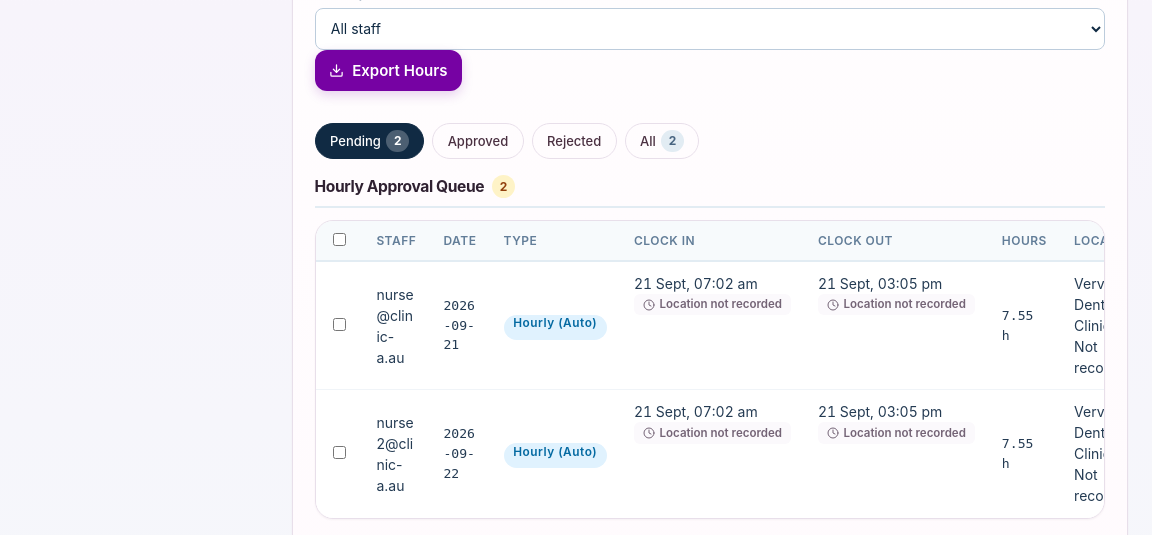
Test: ApprovalQueue — bulk rejection flow › typing a note for a missing row clears its error highlight
(page scrolled)
Expected: the cell "nurse@clinic-a.au" is shown, x1=363 y1=261 x2=430 y2=390
Click the checkbox named "select all timesheets" at (340, 240), box x1=333 y1=233 x2=346 y2=246
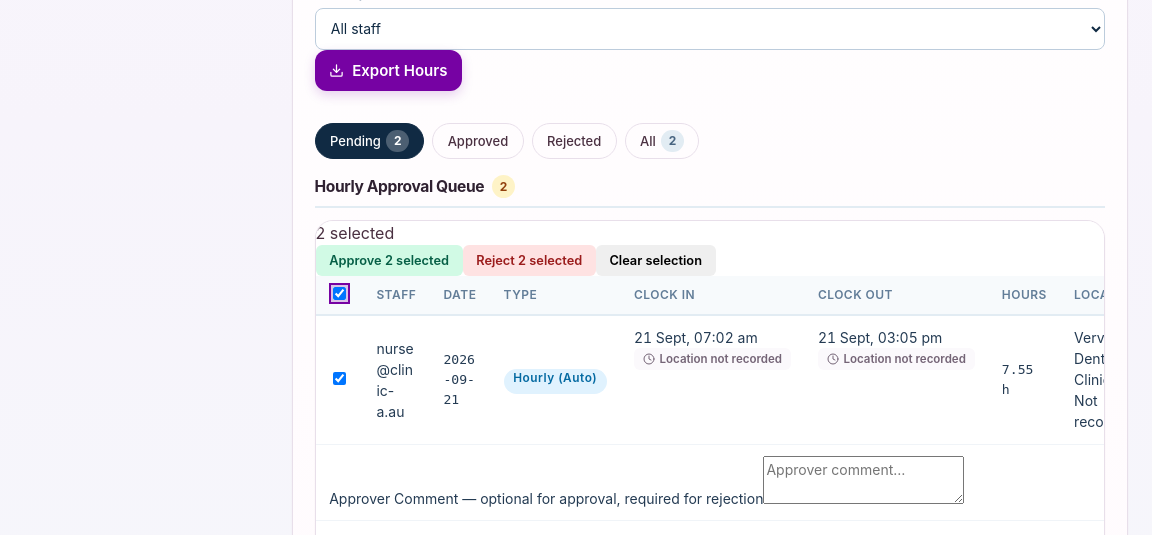
Type "Missing clock-out" into the text box labelled "Approver Comment" at (864, 480), box x1=763 y1=456 x2=964 y2=504
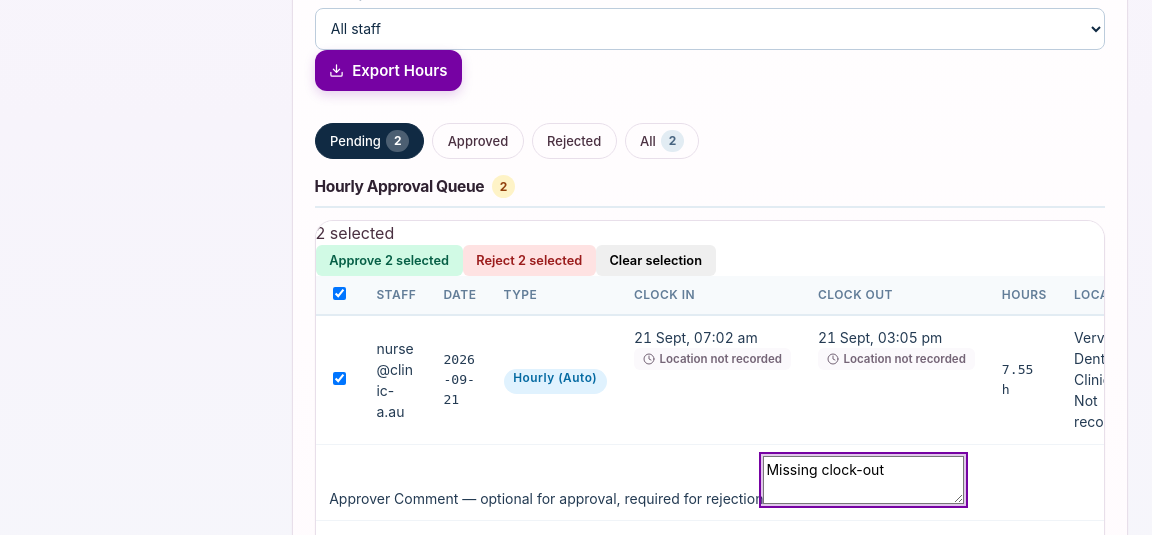
Note: Trigger validation
Click the button "Reject 2 selected" at (529, 260), box x1=463 y1=245 x2=596 y2=276
(page scrolled)
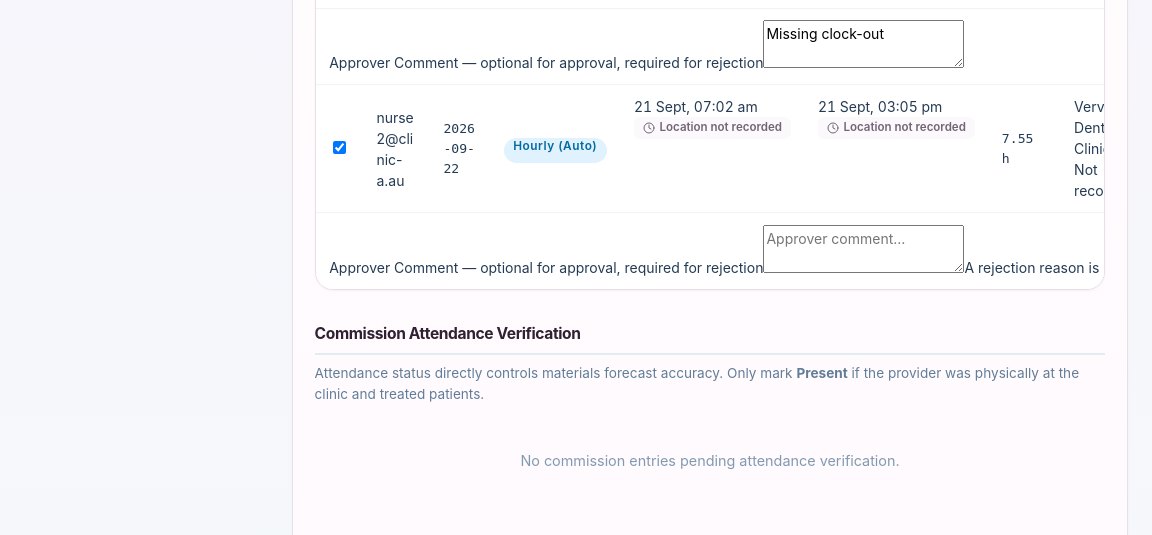
Note: Now fix e2's note
Type "Unauthorised absence" into the 2nd text box labelled "Approver Comment" at (864, 249), box x1=763 y1=225 x2=964 y2=273
(page scrolled)
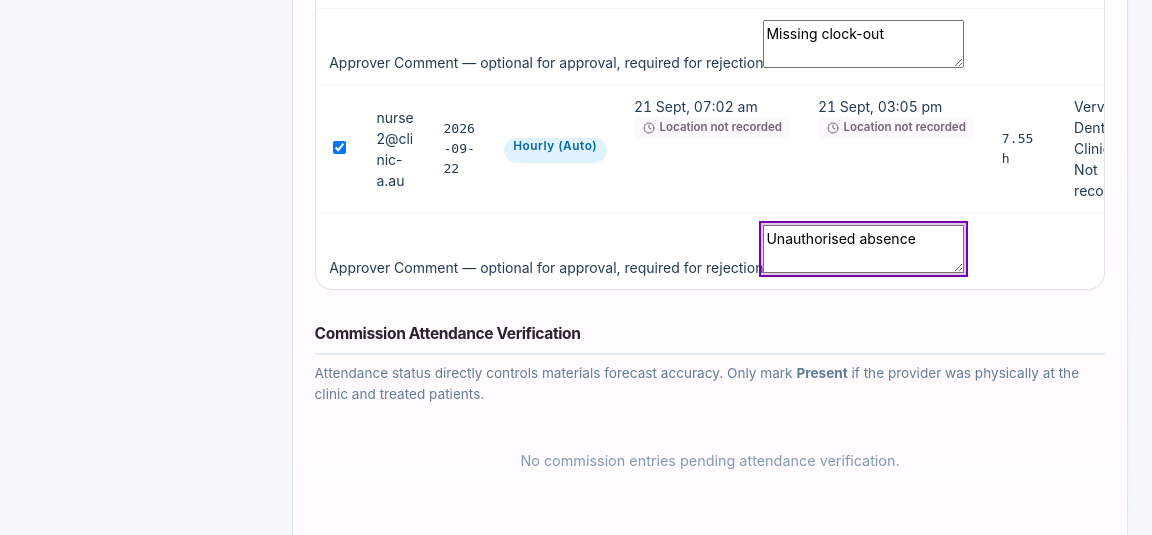
Result: the text "A rejection reason is required for this timesheet" is gone
